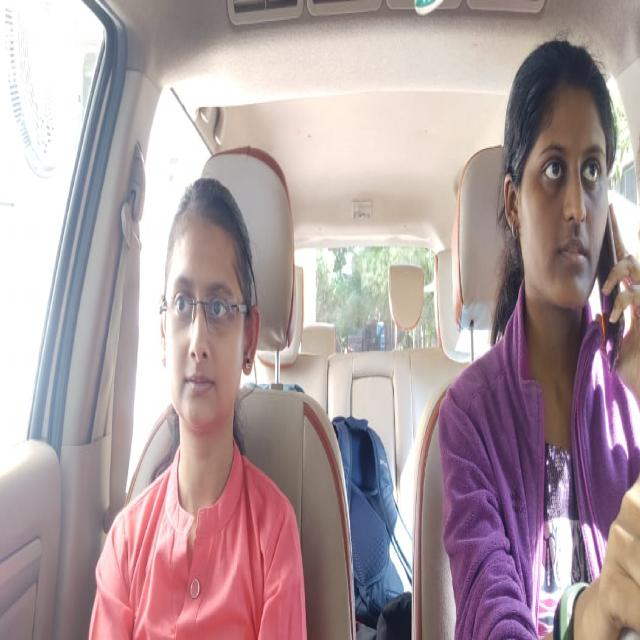mobile: (598, 192, 622, 360)
person: (500, 30, 612, 312), (156, 180, 261, 426)
